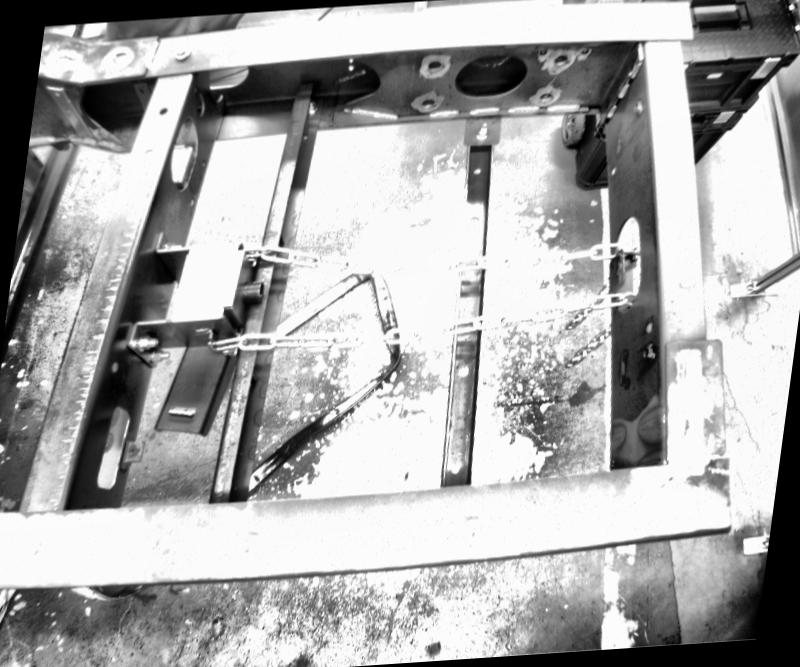bolt: (124, 332, 158, 354), (140, 346, 172, 368), (170, 44, 194, 62), (476, 118, 490, 140), (642, 341, 656, 363), (161, 240, 183, 252), (304, 100, 316, 114), (631, 102, 642, 112)
bracket: (601, 248, 630, 300), (121, 436, 145, 468)
hole: (450, 51, 531, 100), (96, 398, 124, 496), (166, 110, 198, 194), (198, 64, 258, 94), (425, 59, 441, 73), (551, 54, 567, 68), (420, 98, 436, 110), (456, 365, 470, 378), (537, 91, 551, 103), (448, 462, 462, 474), (155, 106, 167, 116), (109, 362, 119, 374), (608, 164, 616, 176), (467, 216, 479, 224), (646, 321, 652, 333), (472, 167, 480, 173), (128, 449, 134, 455)
welding: (624, 60, 640, 80), (615, 82, 628, 98), (604, 104, 618, 118)
